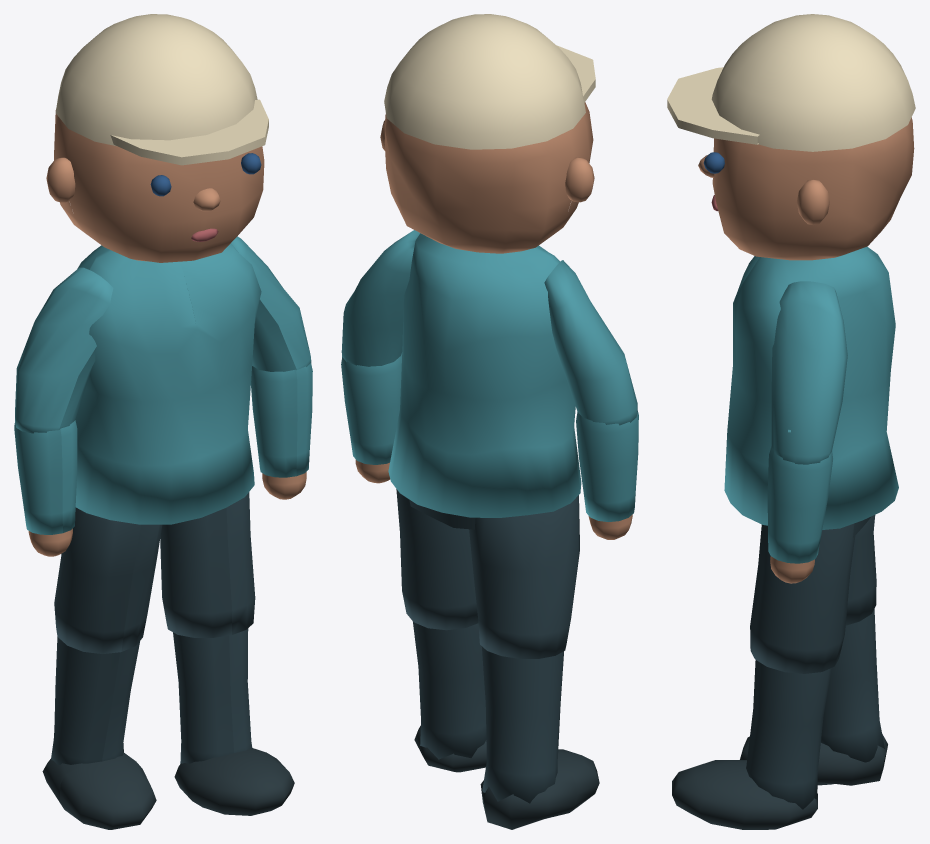
File: driver-adjusted-delivery.glb
3 views of the same model, side by side, from view 1: azimuth 30°, elevation 25°; view 2: azimuth 150°, elevation 25°; view 3: azimuth 270°, elevation 25° (orthographic).
Parts seen in each view (by area): view 1: coat_torso.014, rain_helmet.003, head.014, thigh_-1.014, thigh_1.014, upper_arm_-1.015, shin_1.014, shin_-1.014, forearm_-1.028, shoe_-1.014, forearm_-1.015, shoe_1.014 (+5 smaller); view 2: coat_torso.014, rain_helmet.003, head.014, thigh_-1.014, shin_-1.014, upper_arm_-1.015, shin_1.014, thigh_1.014, upper_arm_-1.028, forearm_-1.015, forearm_-1.028, shoe_-1.014 (+6 smaller); view 3: coat_torso.014, rain_helmet.003, head.014, upper_arm_-1.028, thigh_1.014, shin_1.014, shin_-1.014, shoe_1.014, forearm_-1.028, helmet_brim.003, thigh_-1.014, shoe_-1.014 (+2 smaller).
Part boxes in pixels (x1,y1,x2,y2): coat_torso.014: (75, 243, 261, 524); rain_helmet.003: (55, 14, 257, 146); head.014: (54, 110, 264, 262); thigh_-1.014: (54, 507, 162, 653); thigh_1.014: (160, 492, 255, 637); upper_arm_-1.015: (15, 267, 113, 433); shin_1.014: (173, 628, 252, 763); shin_-1.014: (51, 637, 139, 764); forearm_-1.028: (251, 336, 312, 477); shoe_-1.014: (42, 752, 156, 829); forearm_-1.015: (14, 420, 77, 534); shoe_1.014: (174, 748, 294, 815); coat_torso.014: (388, 233, 581, 517); rain_helmet.003: (384, 14, 585, 149); head.014: (384, 102, 593, 253); thigh_-1.014: (469, 495, 579, 658); shin_-1.014: (481, 646, 563, 803); upper_arm_-1.015: (544, 260, 637, 425); shin_1.014: (413, 622, 486, 759); thigh_1.014: (396, 489, 478, 630); upper_arm_-1.028: (341, 230, 420, 366); forearm_-1.015: (576, 411, 638, 521); forearm_-1.028: (341, 352, 402, 464); shoe_-1.014: (480, 749, 599, 829); coat_torso.014: (724, 246, 898, 529); rain_helmet.003: (711, 14, 915, 151); head.014: (712, 117, 914, 260); upper_arm_-1.028: (771, 281, 847, 464); thigh_1.014: (750, 523, 855, 673); shin_1.014: (746, 660, 831, 809); shin_-1.014: (821, 609, 884, 762); shoe_1.014: (672, 760, 817, 829); forearm_-1.028: (767, 429, 832, 563); helmet_brim.003: (667, 67, 759, 144); thigh_-1.014: (845, 515, 876, 625); shoe_-1.014: (740, 734, 887, 785).
Size of the model in its own units: 0.7434 by 1.91 by 0.5479.
